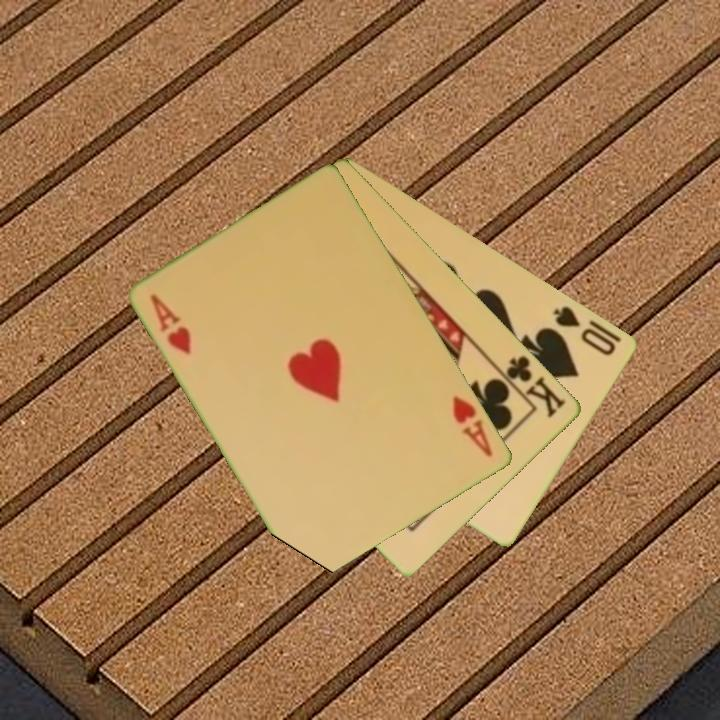10s: (550, 302, 619, 359)
Ah: (147, 290, 195, 358), (449, 392, 496, 460)
Kc: (494, 352, 570, 421)
